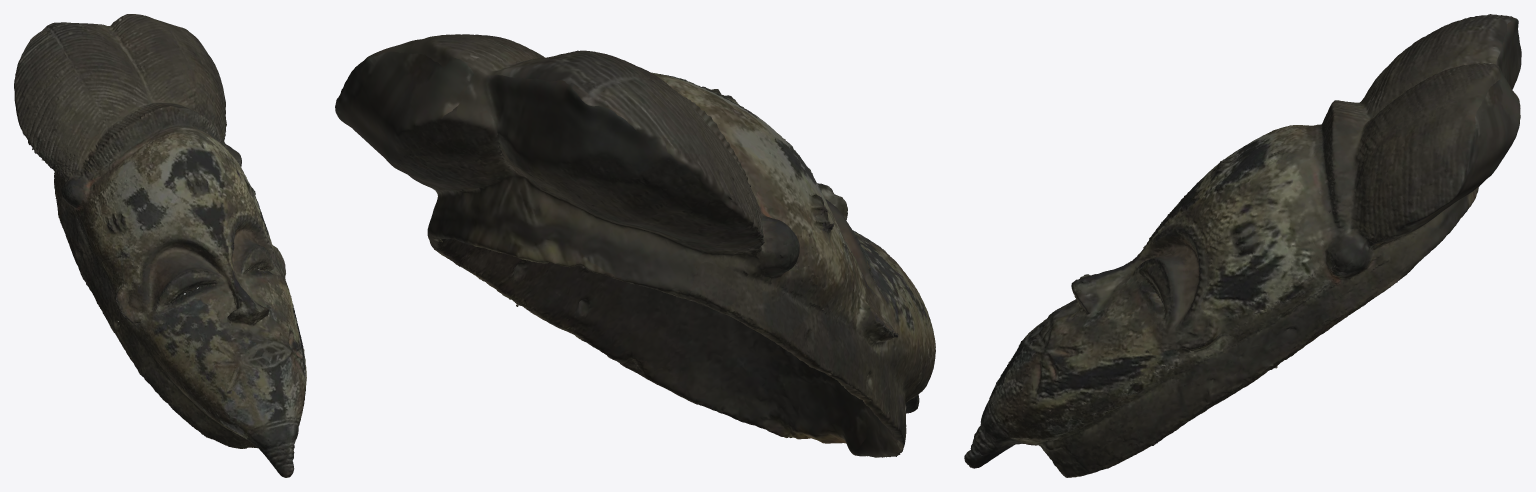
Rendered from preview.glb.
3 views of the same model, side by side, from view 1: azimuth 30°, elevation 25°; view 2: azimuth 150°, elevation 25°; view 3: azimuth 270°, elevation 25° (orthographic). The views are drawn at different scales.
Visible parts, largest first — view 1: Object_2; view 2: Object_2; view 3: Object_2.
Part boxes in pixels (x1,y1,x2,y2): Object_2: (14, 14, 306, 477); Object_2: (335, 34, 935, 457); Object_2: (964, 14, 1521, 477).
Size of the model in its own units: 195 by 295 by 346.
Materials: 1 (1 with a texture image).
